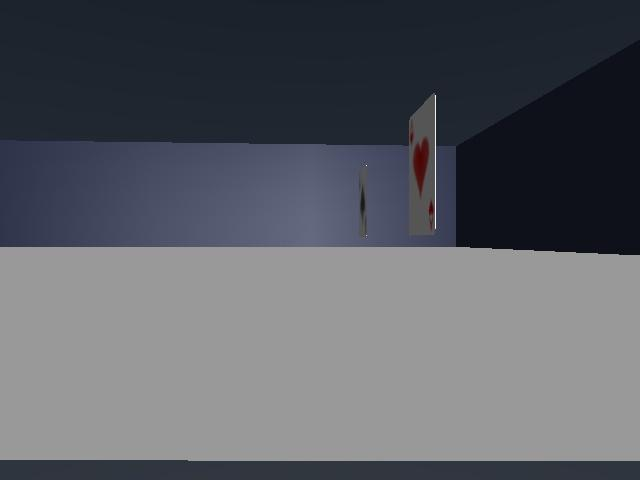club: (359, 166, 366, 235)
heart: (409, 94, 435, 234)
